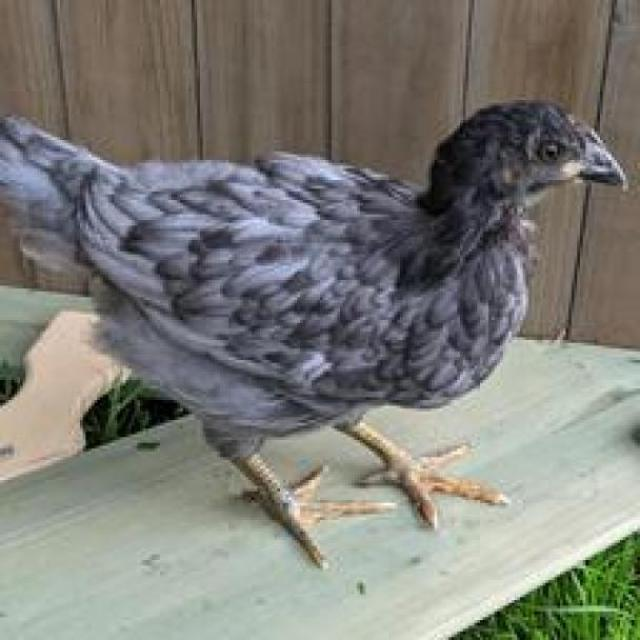Chicken: (4, 52, 640, 562)
